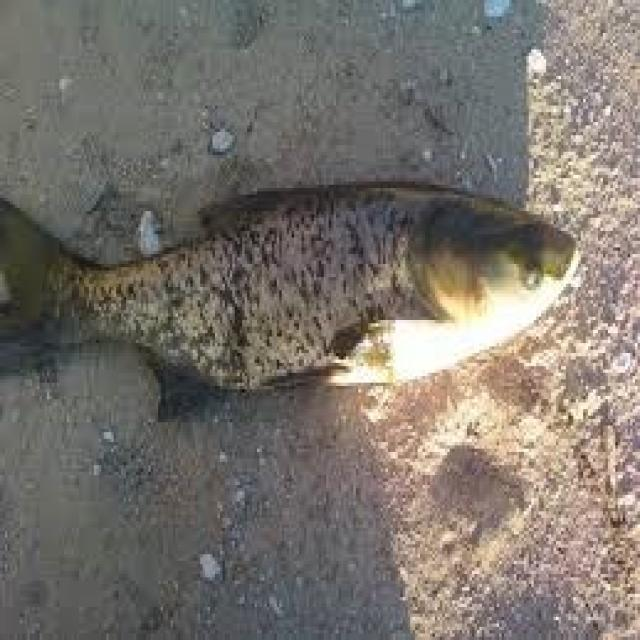Big-Head-Carp: (4, 118, 588, 490)
